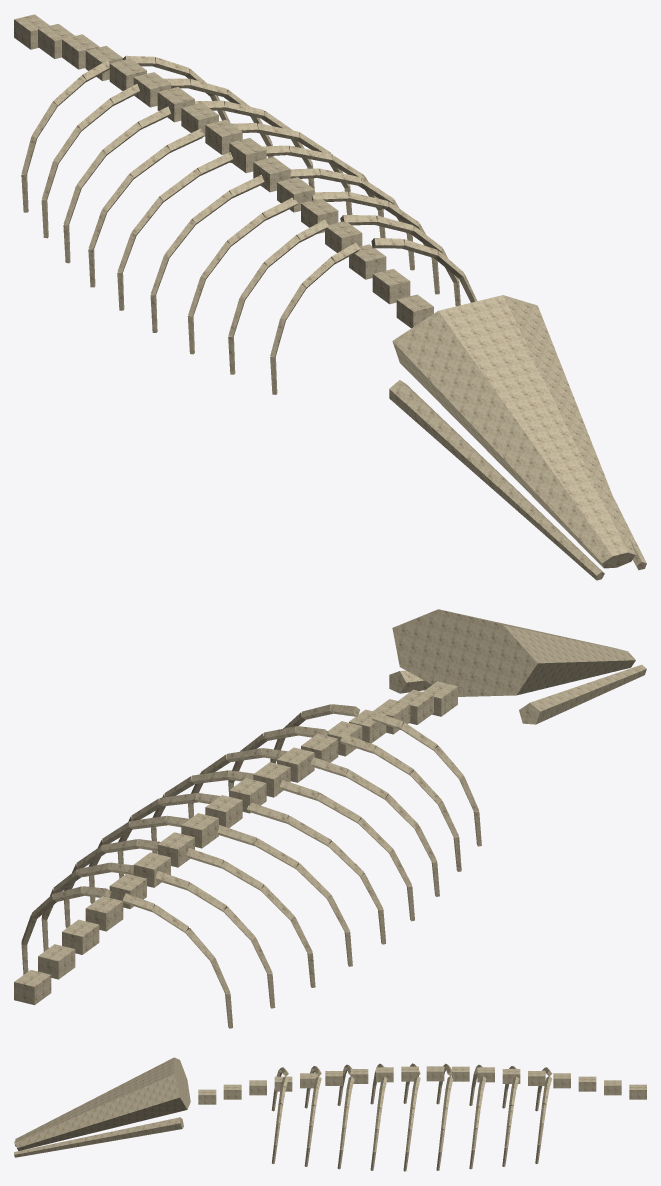
File: ballena.obj
3 renders of one model, top to bottom at view 1: azimuth 30°, elevation 25°; view 2: azimuth 150°, elevation 25°; view 3: azimuth 270°, elevation 25°, orthographic. The views are drawn at different scales.
Visible parts, largest first — view 1: ballena; view 2: ballena; view 3: ballena.
Boxes of the visible parts, x1=… form: ballena: x1=14, y1=14, x2=646, y2=580; ballena: x1=14, y1=609, x2=646, y2=1028; ballena: x1=14, y1=1057, x2=646, y2=1171.
Size of the model in its own units: 6.44 by 3.75 by 24.98.
Materials: 1 (1 with a texture image).
